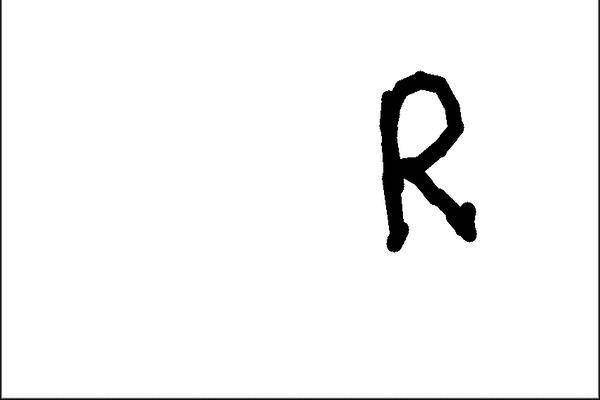R: (361, 69, 492, 259)
